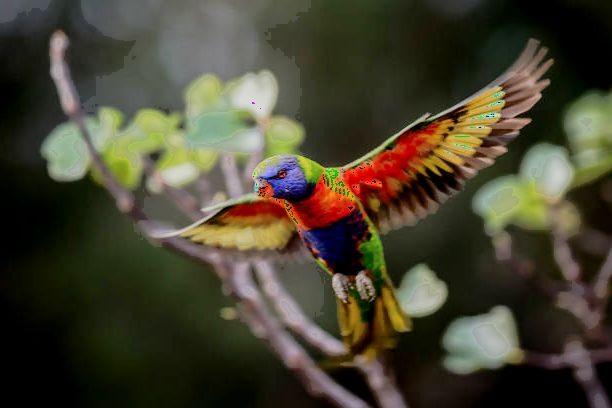Bird: (148, 31, 556, 348)
